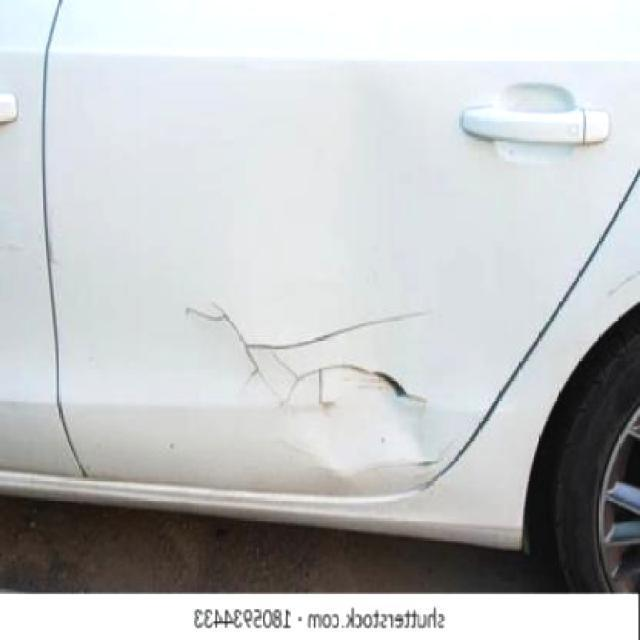minor: (608, 272, 640, 297)
moderate: (186, 300, 428, 478)
